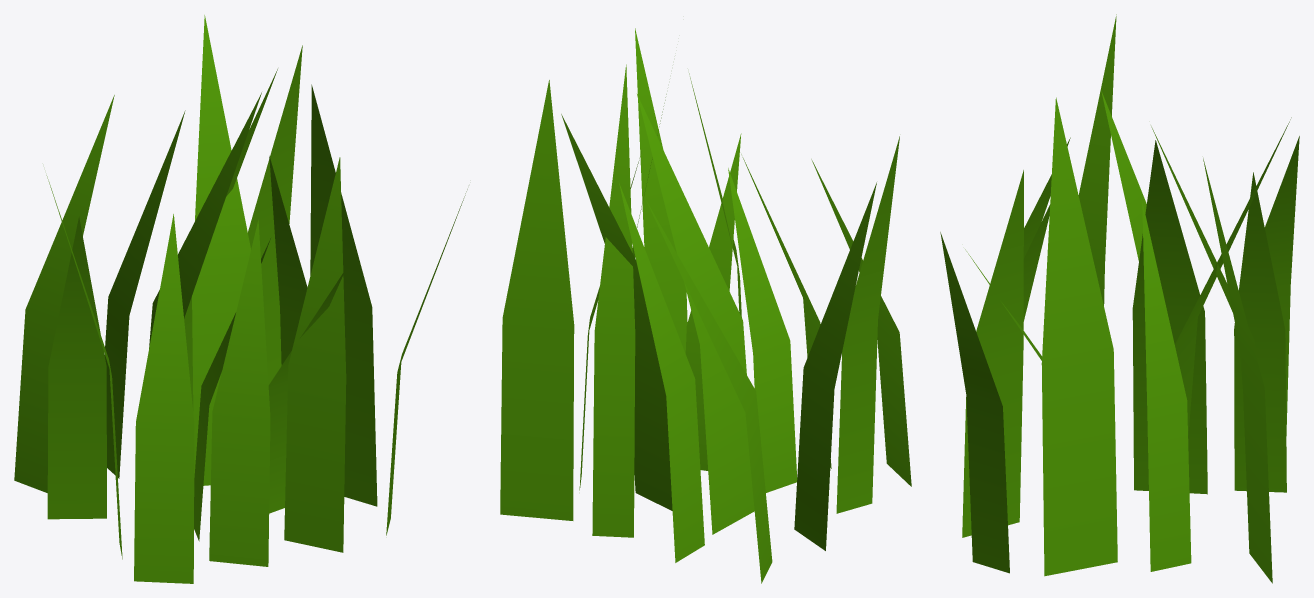
The model's file is Gram2.fbx.
3 renders of one model, left to right at view 1: azimuth 30°, elevation 25°; view 2: azimuth 150°, elevation 25°; view 3: azimuth 270°, elevation 25°, orthographic. The views are drawn at different scales.
Parts seen in each view (by area): view 1: Gram2; view 2: Gram2; view 3: Gram2.
Boxes of the visible parts, x1,y1,x2,y2 form: Gram2: [14, 15, 467, 583]; Gram2: [500, 28, 911, 583]; Gram2: [940, 14, 1299, 583].
Size of the model in its own units: 6.9 by 8.28 by 6.
